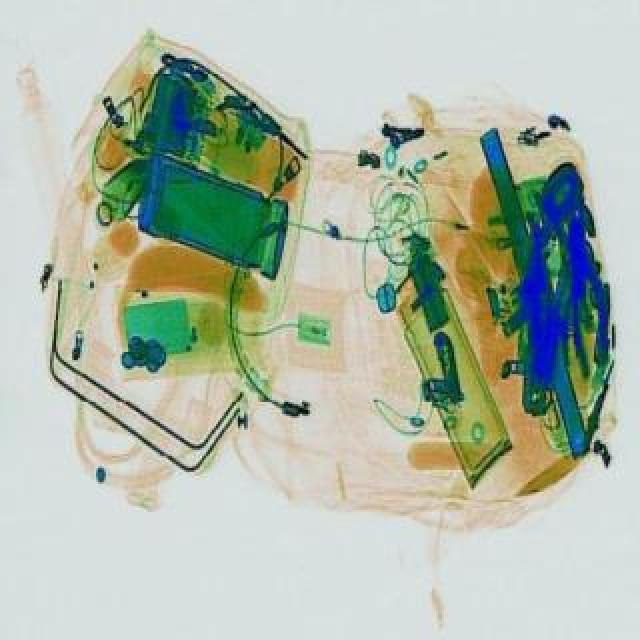wrench: (556, 222, 616, 374)
